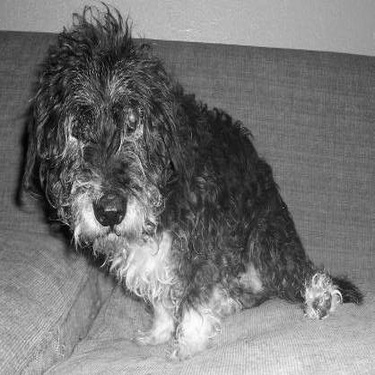dog: (7, 1, 367, 360)
